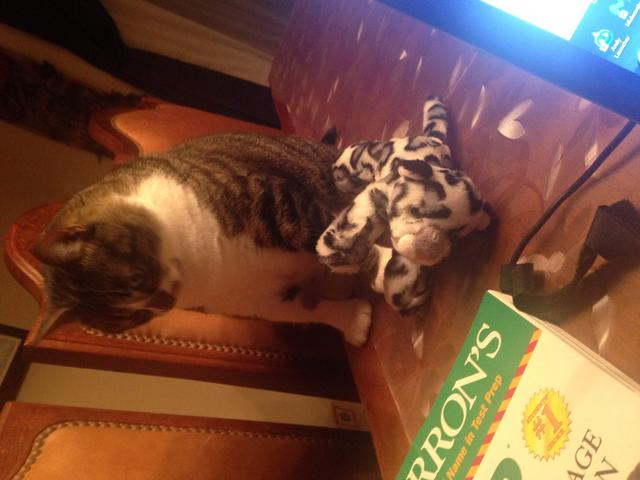playdoh: (29, 128, 369, 352)
